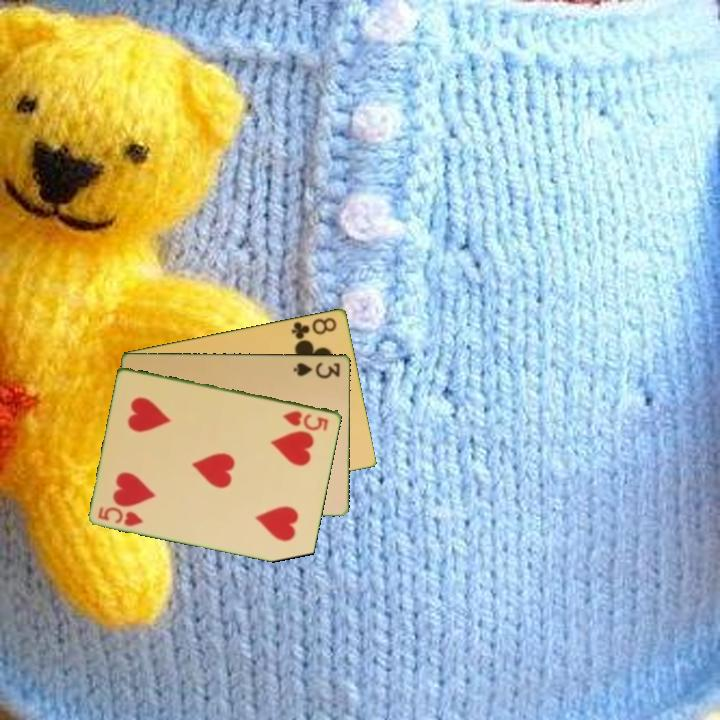3s: (290, 358, 343, 380)
5h: (280, 407, 331, 433), (95, 503, 146, 529)
8c: (288, 313, 340, 342)
